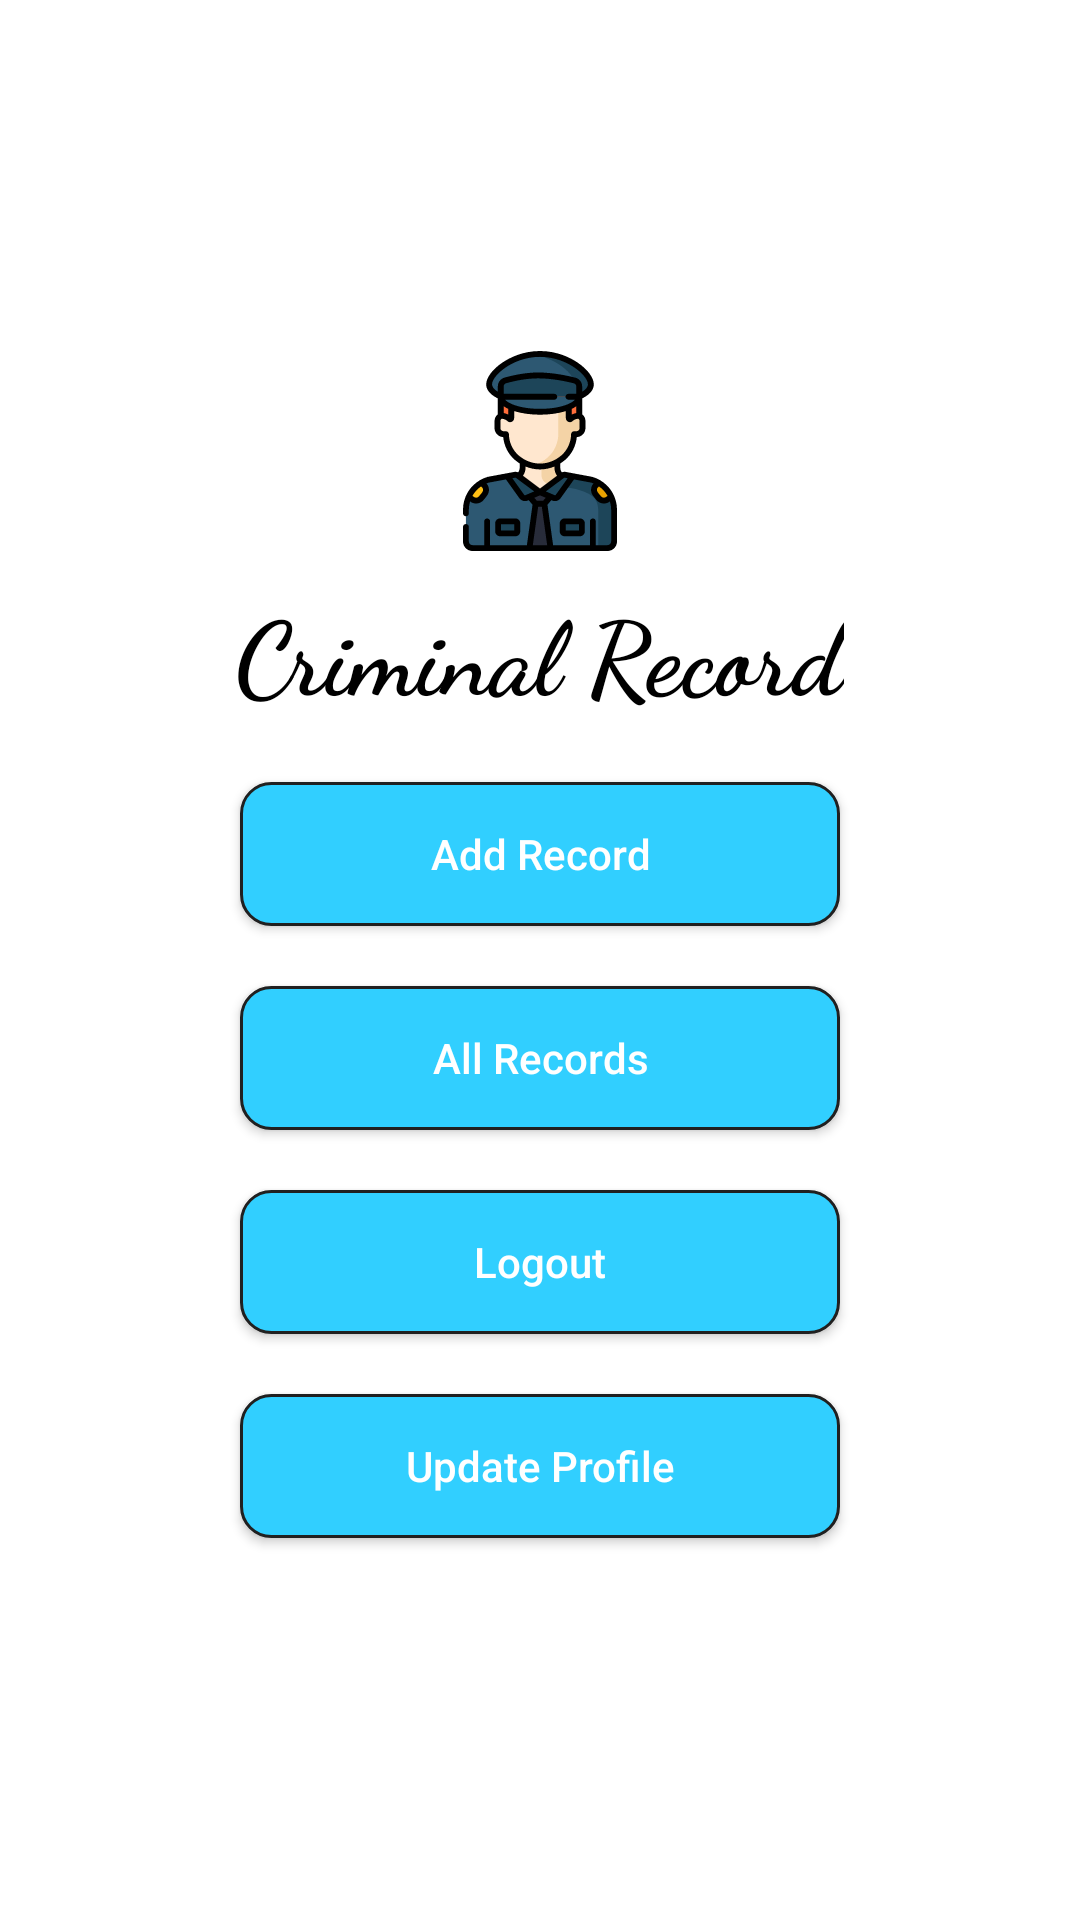

Screen size 1080px×1920px. Icon name, then its box in pixels as (x1=x1, y1=y1, x2=x2, y2=y2):
policeman: (x1=463, y1=351, x2=617, y2=551)
